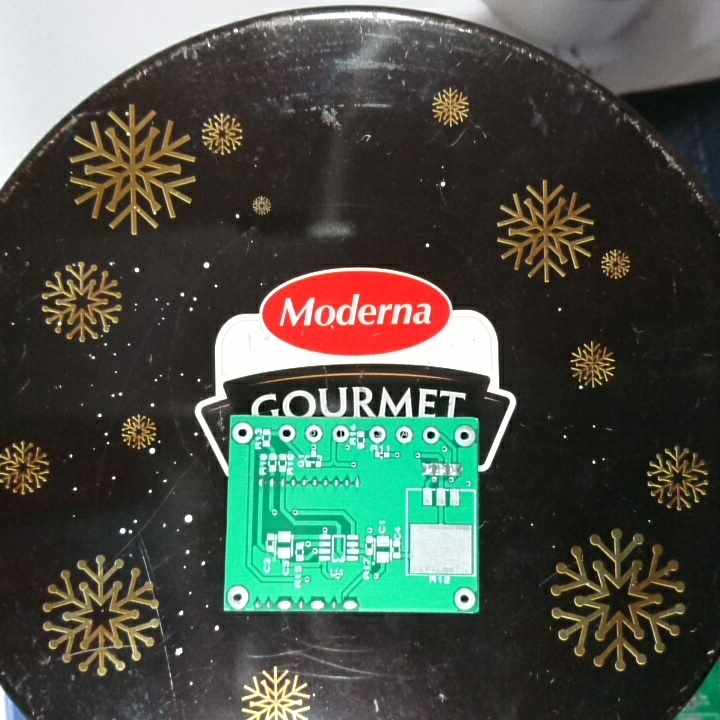F: (230, 420, 255, 446), (451, 585, 476, 611), (226, 583, 251, 609), (452, 423, 476, 449), (277, 420, 297, 445), (393, 424, 415, 446), (302, 423, 324, 444), (420, 424, 441, 446), (366, 424, 388, 444), (331, 423, 349, 444)
P: (339, 596, 360, 612), (308, 597, 327, 612), (275, 596, 294, 610)
